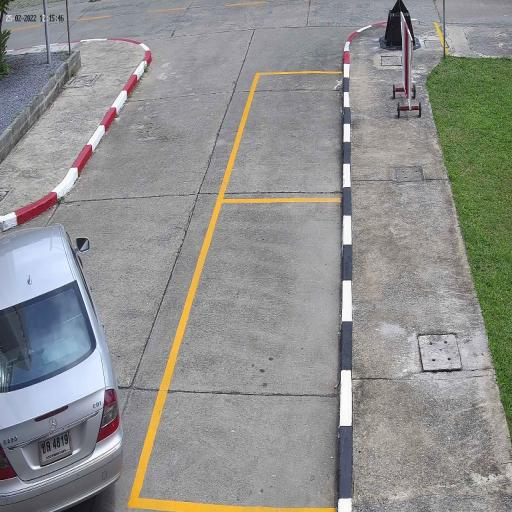car: (0, 222, 125, 512)
